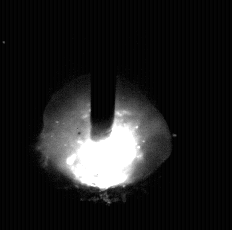arame: (91, 0, 116, 141)
poca: (38, 0, 173, 230)
